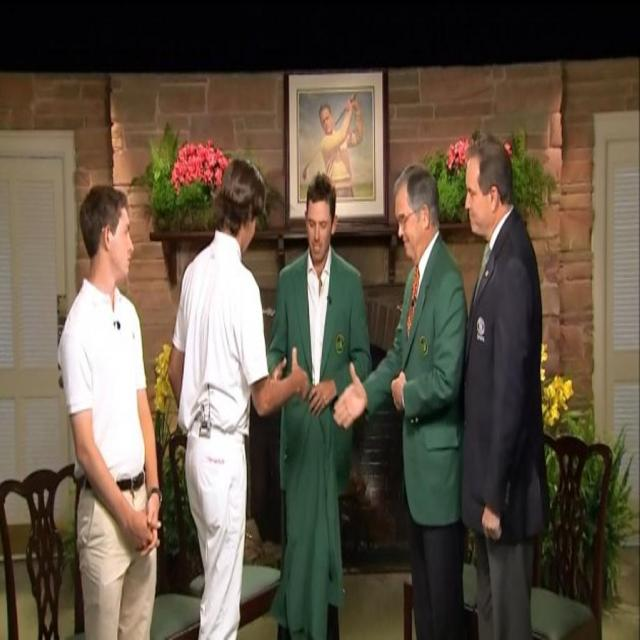nomask: (465, 158, 490, 232), (395, 192, 420, 255), (109, 208, 133, 272), (307, 202, 331, 260), (232, 210, 262, 247), (320, 110, 331, 132)
